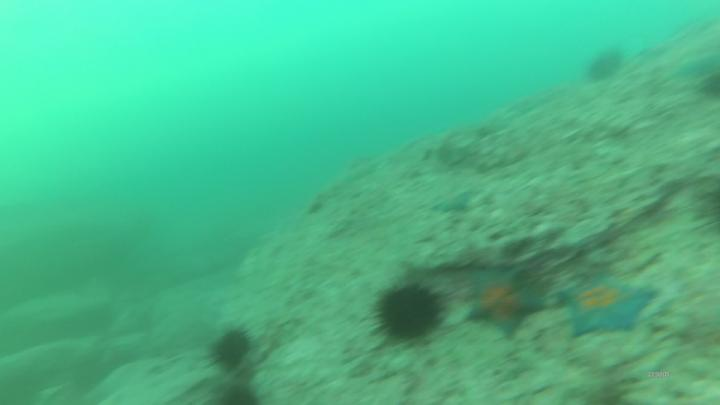echinus: (366, 278, 454, 346), (206, 322, 255, 377), (588, 48, 625, 87)
starfish: (465, 266, 554, 343), (564, 271, 659, 341), (430, 190, 474, 217)
